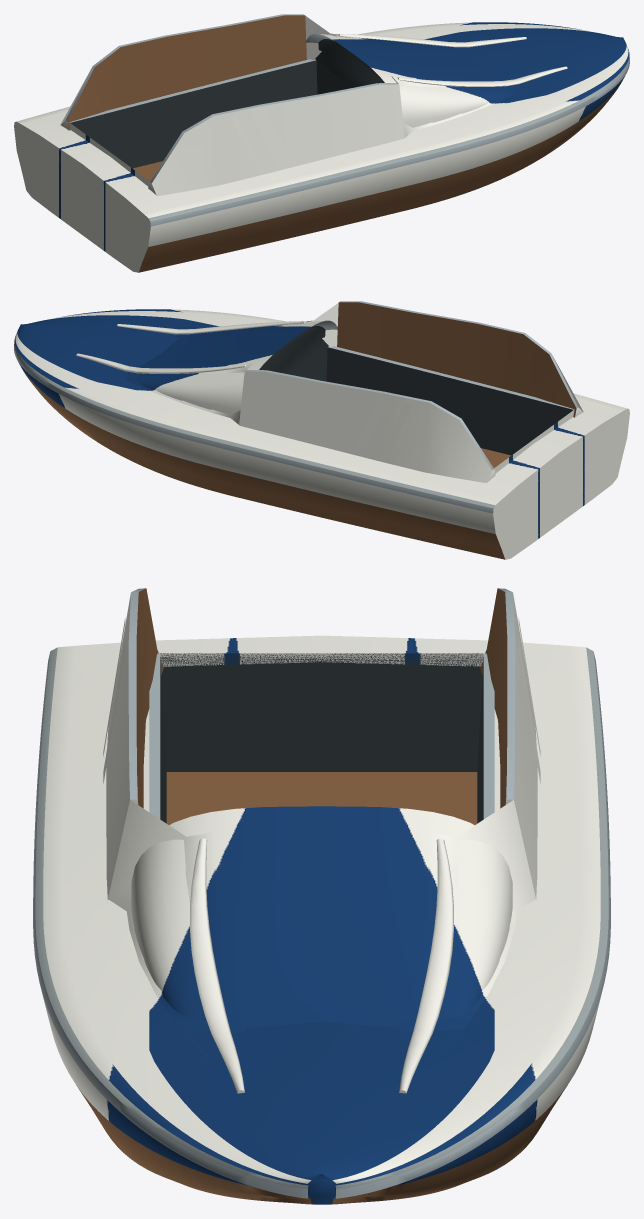
Rendered from Hull_10_R_外舷・群青.glb.
3 renders of one model, top to bottom at view 1: azimuth 30°, elevation 25°; view 2: azimuth 150°, elevation 25°; view 3: azimuth 270°, elevation 25°, orthographic. The views are drawn at different scales.
Visible parts, largest first — view 1: Hull_10_R; view 2: Hull_10_R; view 3: Hull_10_R.
Part boxes in pixels (x1,y1,x2,y2): Hull_10_R: [14, 14, 629, 272]; Hull_10_R: [14, 301, 629, 559]; Hull_10_R: [33, 588, 610, 1204].
Size of the model in its own units: 2.9 by 0.6856 by 1.34.
4 materials, 4 textured.
